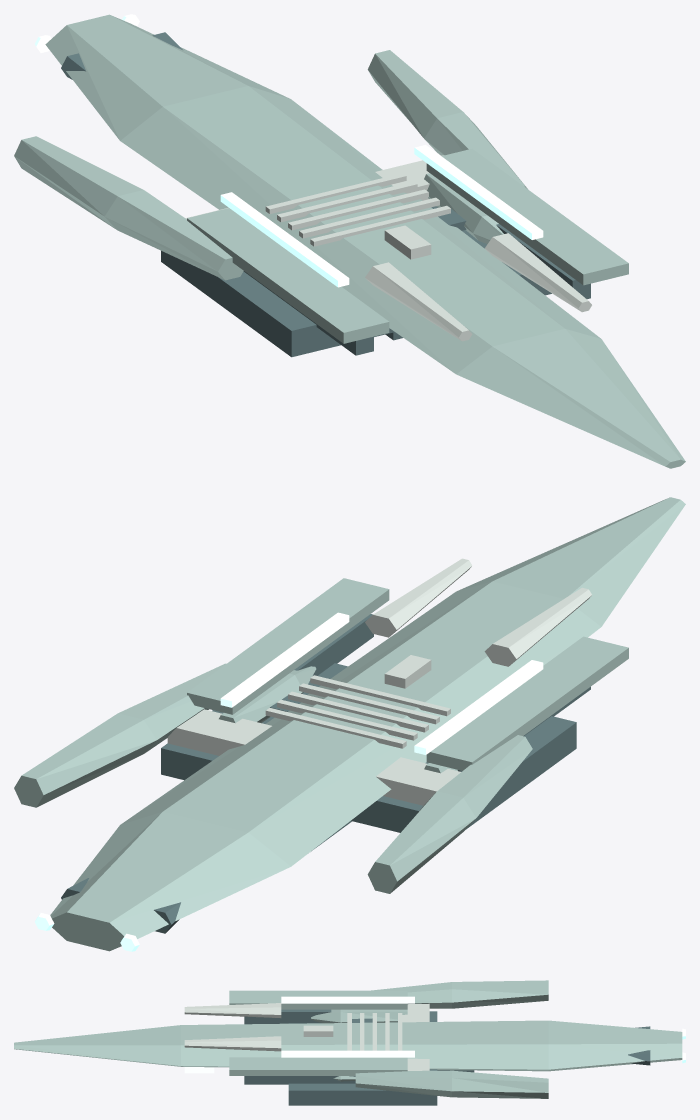
The picture shows the model from 3 angles, top to bottom: view 1: azimuth 30°, elevation 25°; view 2: azimuth 150°, elevation 25°; view 3: azimuth 270°, elevation 25°; orthographic projection. The views are drawn at different scales.
Bounding box in the file's own units: 7.66 × 1.76 × 20.45.
